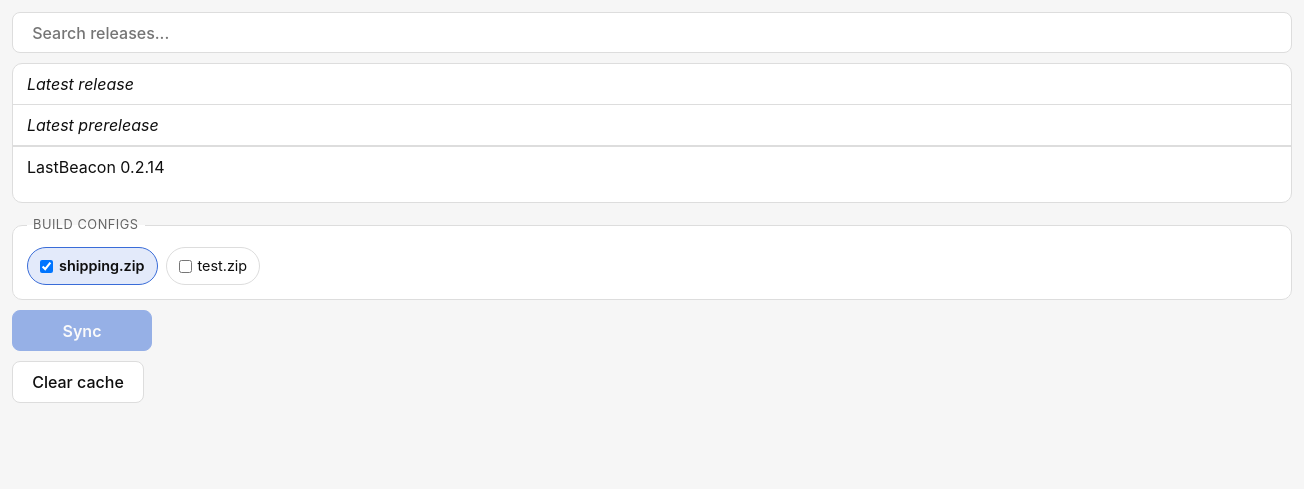
ProjectDetail › selecting Latest release switches sync mode, persists it, and shows latest configs' controls
Click the button "Latest release": (80, 84) [13, 64, 1291, 105]
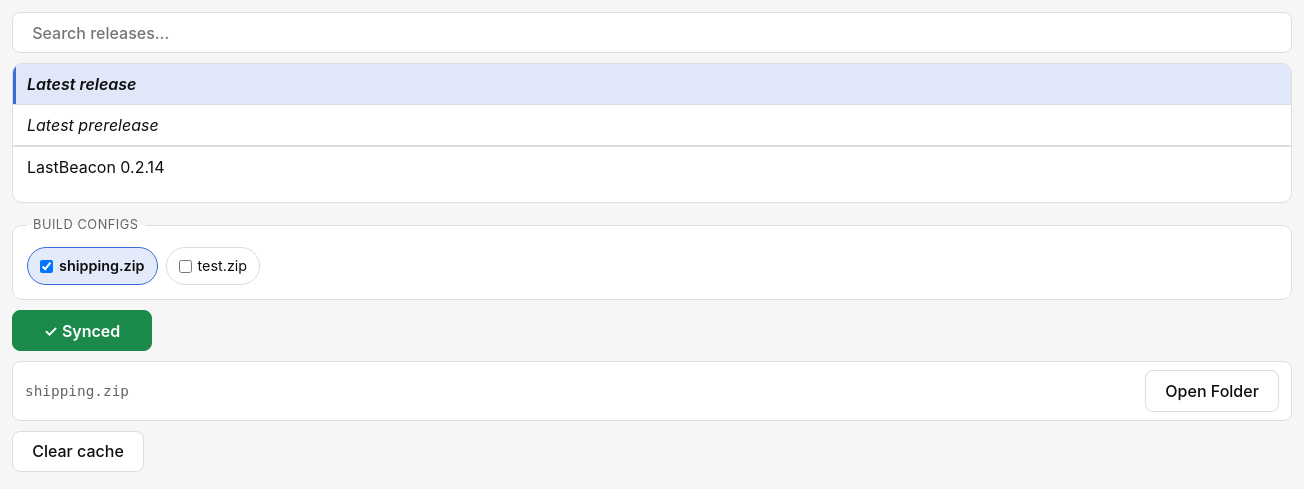
Now the button with aria-label "Open folder for shipping.zip" is shown, box [1145, 370, 1279, 412]
